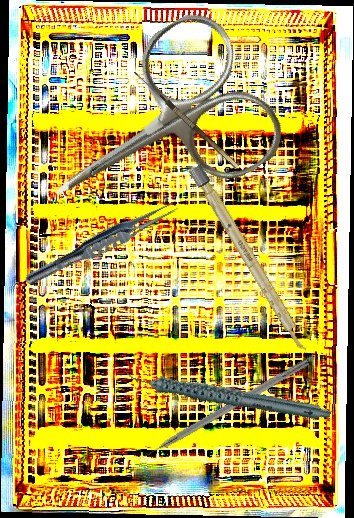Handpiece: (121, 325, 333, 462)
Hook Surgical: (130, 356, 311, 467), (127, 69, 240, 175)
Iris Scissors: (11, 1, 294, 264)
Scalpel Handle: (188, 164, 311, 354)
Tissue Forceps: (21, 193, 184, 293)
